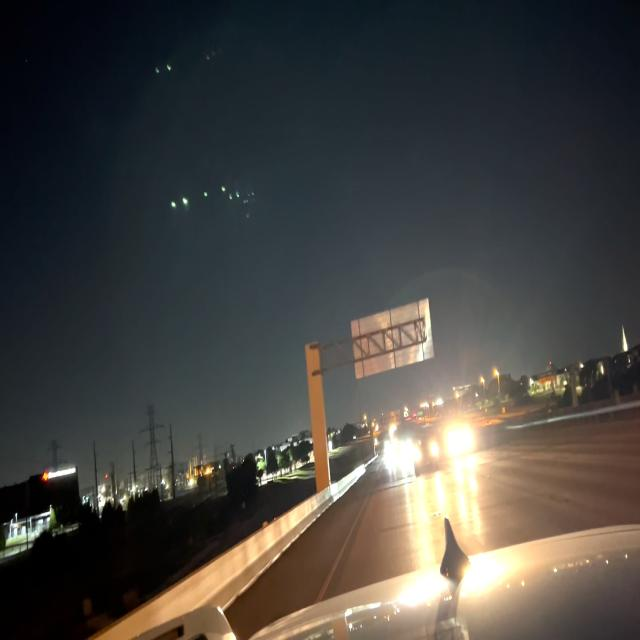back-of-sign: (350, 295, 437, 386)
